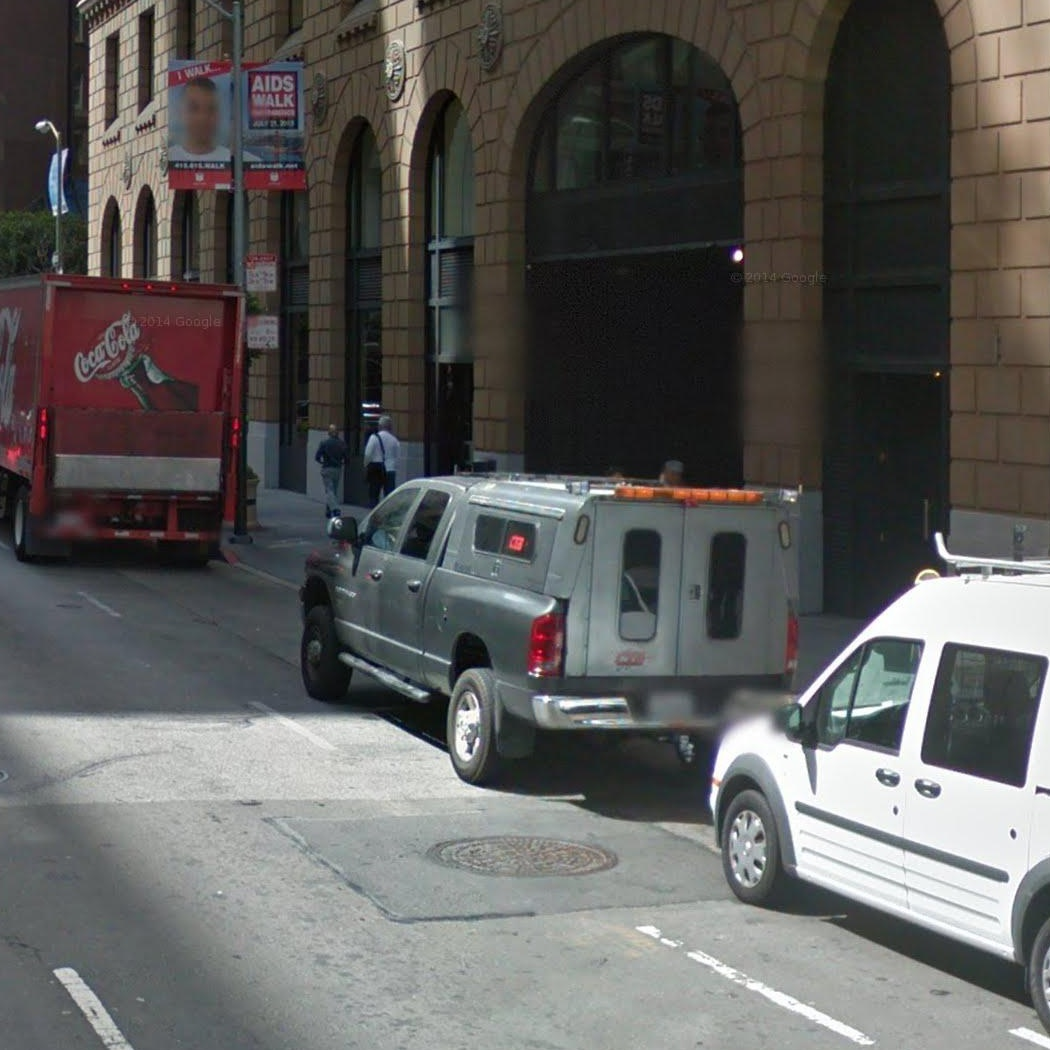No Parking: (246, 315, 280, 349)
